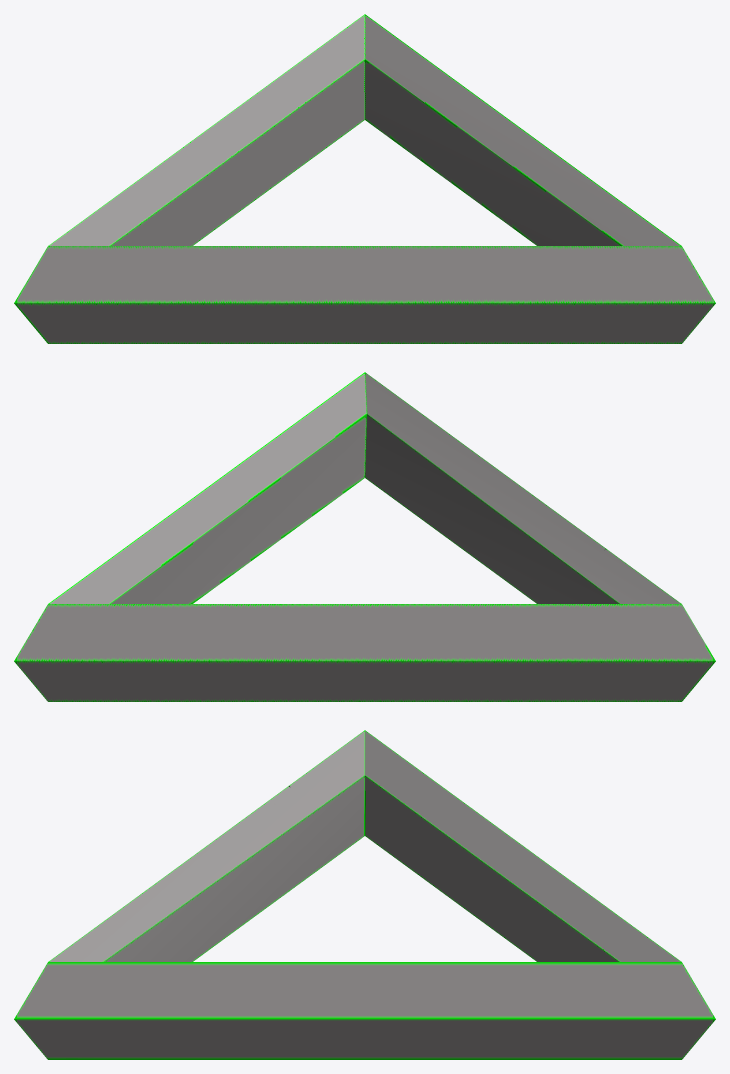
Rendered from Gate.obj.
3 views of the same model, one above another, from view 1: azimuth 30°, elevation 25°; view 2: azimuth 150°, elevation 25°; view 3: azimuth 270°, elevation 25° (orthographic).
Visible parts, largest first — view 1: Gate; view 2: Gate; view 3: Gate.
Boxes of the visible parts, box(x1,y1,x2,y2) form: Gate: box(14, 14, 715, 343); Gate: box(14, 372, 715, 701); Gate: box(14, 730, 715, 1059).
Size of the model in its own units: 1.5 by 0.2663 by 1.73.
1 material, 1 textured.
